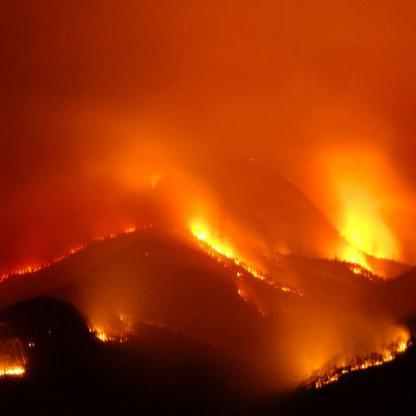fire: (188, 216, 296, 310), (0, 228, 144, 284), (302, 332, 412, 392), (332, 200, 397, 284), (87, 301, 136, 344), (0, 341, 28, 379)
